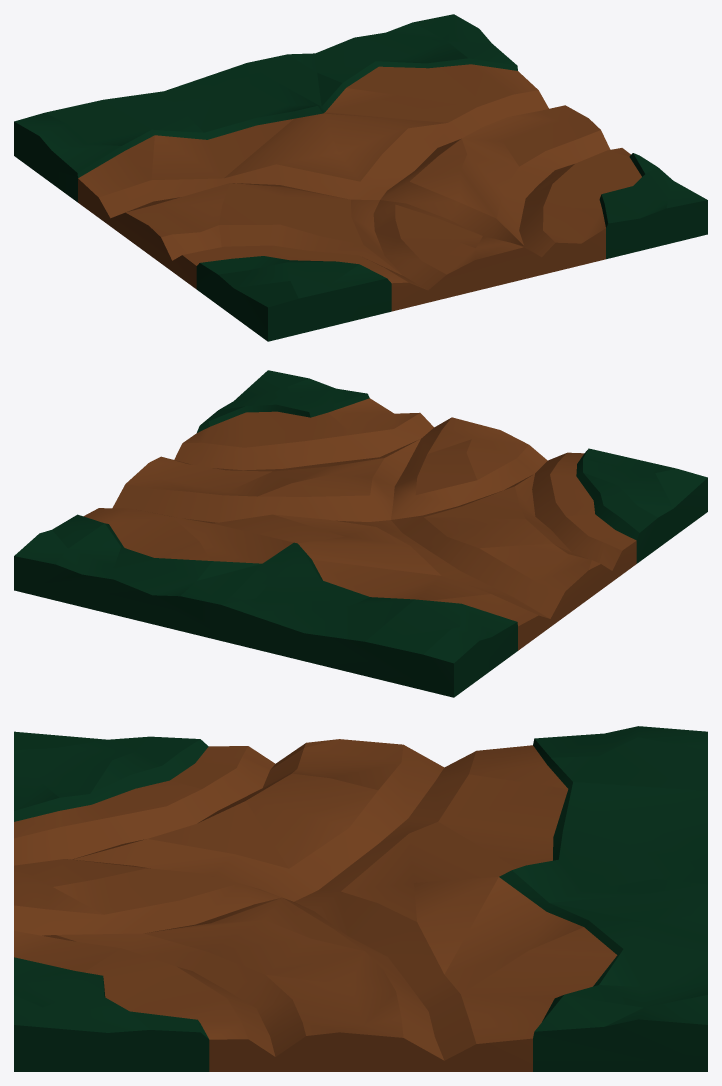
The model's file is Ground_Road_Crossroads_B_1.fbx.
3 views of the same model, one above another, from view 1: azimuth 30°, elevation 25°; view 2: azimuth 150°, elevation 25°; view 3: azimuth 270°, elevation 25° (orthographic). The views are drawn at different scales.
Visible parts, largest first — view 1: Ground_Road_Crossroads_B_1; view 2: Ground_Road_Crossroads_B_1; view 3: Ground_Road_Crossroads_B_1.
Part boxes in pixels (x1,y1,x2,y2): Ground_Road_Crossroads_B_1: [14, 14, 707, 341]; Ground_Road_Crossroads_B_1: [14, 370, 707, 697]; Ground_Road_Crossroads_B_1: [14, 726, 707, 1071].
Bounding box in the file's own units: 147 × 14.69 × 147.
